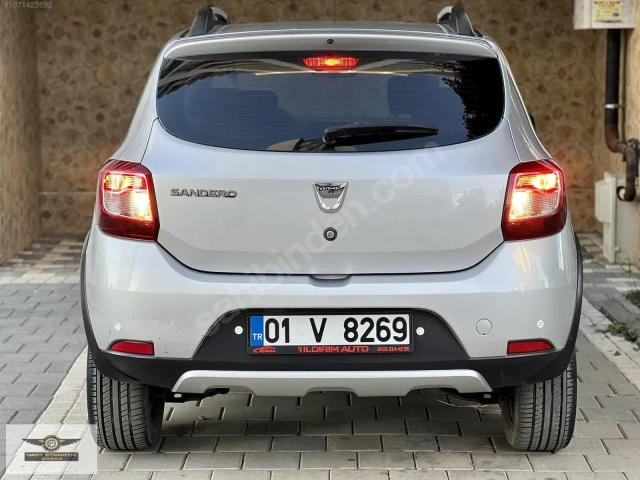plaka: (248, 314, 413, 353)
